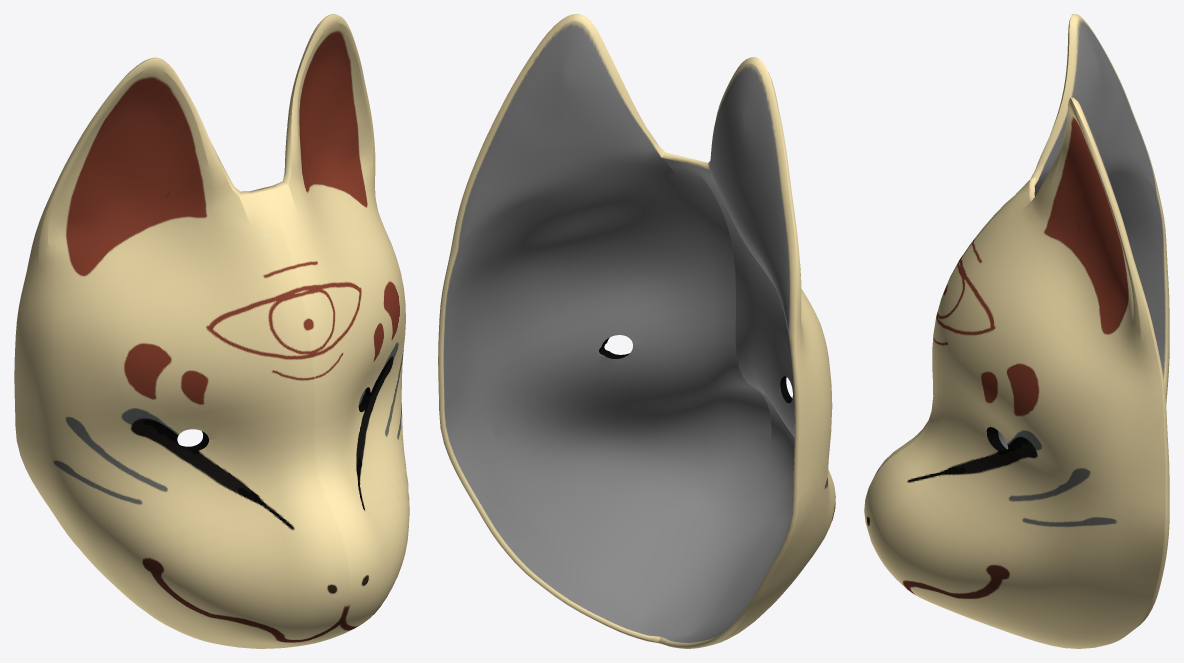
3 renders of one model, left to right at view 1: azimuth 30°, elevation 25°; view 2: azimuth 150°, elevation 25°; view 3: azimuth 270°, elevation 25°, orthographic. The views are drawn at different scales.
Parts seen in each view (by area): view 1: white_without_eye_mask.012; view 2: white_without_eye_mask.012; view 3: white_without_eye_mask.012.
Part boxes in pixels (x1=…): white_without_eye_mask.012: x1=14, y1=14, x2=409, y2=648; white_without_eye_mask.012: x1=438, y1=14, x2=835, y2=648; white_without_eye_mask.012: x1=864, y1=14, x2=1169, y2=648.
Size of the model in its own units: 133 by 210 by 100.
